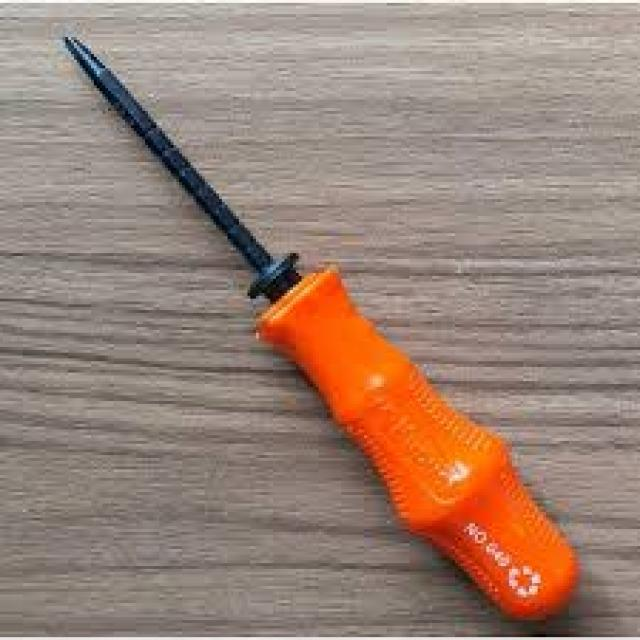screwdriver: (62, 31, 584, 629)
